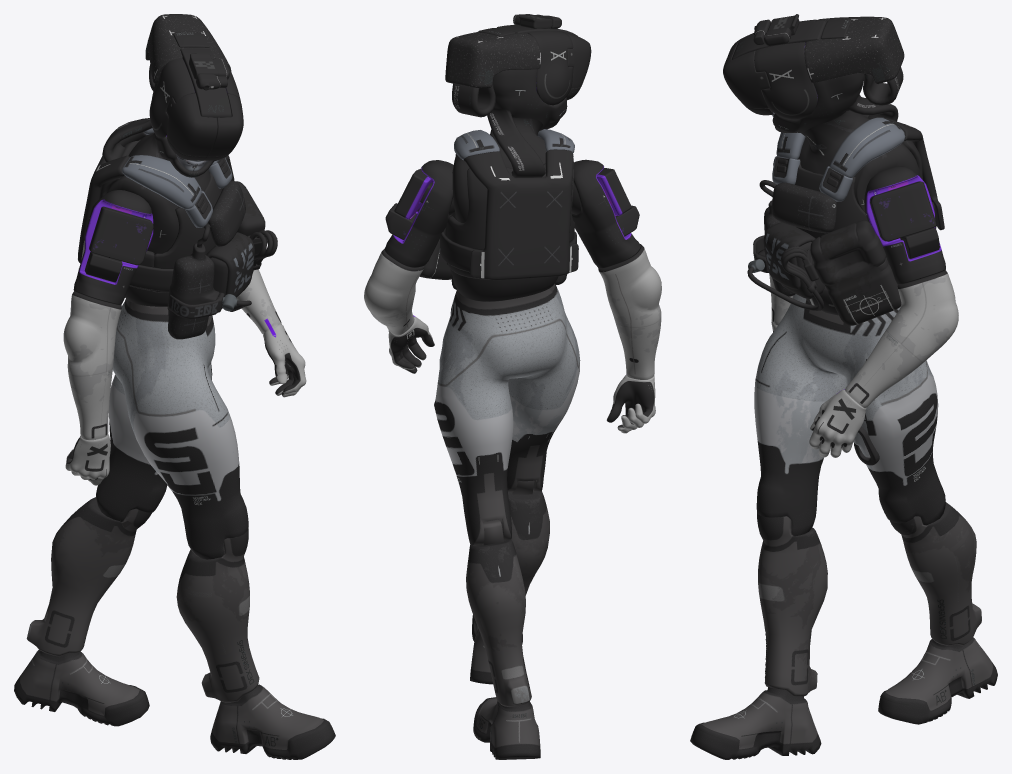
The model's file is shadow_index.glb.
3 views of the same model, side by side, from view 1: azimuth 30°, elevation 25°; view 2: azimuth 150°, elevation 25°; view 3: azimuth 270°, elevation 25° (orthographic). The views are drawn at different scales.
Parts seen in each view (by area): view 1: vigi_leg_thights1, vigi_leg_lower1, vigi_leg_shoes1, vigi_torso1, vigi_forearms1, vigi_helm_main1, vigi_p_right1, vigi_shoulder1, hands_final1, vigi_shoulder_flap1, vigi_helm_visor_top1, vigi_h_visor_tr_low1 (+6 smaller); view 2: vigi_leg_thights1, vigi_torso1, vigi_leg_lower1, vigi_shoulder1, vigi_forearms1, vigi_helm_main1, vigi_necksock1, vigi_leg_shoes1, hands_final1, vigi_shoulder_flap1, vigi_h_visor_tr_low1, vigi_helm_visor_top1 (+1 smaller); view 3: vigi_leg_thights1, vigi_leg_lower1, vigi_leg_shoes1, vigi_torso1, vigi_helm_main1, vigi_forearms1, vigi_p_shock1, vigi_shoulder1, vigi_necksock1, vigi_shoulder_flap1, hands_final1, vigi_p_top1 (+5 smaller).
Part boxes in pixels (bbox=[...]): vigi_leg_thights1: bbox=[96, 299, 248, 559]; vigi_leg_lower1: bbox=[26, 497, 259, 702]; vigi_leg_shoes1: bbox=[14, 650, 335, 759]; vigi_torso1: bbox=[78, 128, 232, 306]; vigi_forearms1: bbox=[63, 269, 281, 440]; vigi_helm_main1: bbox=[145, 14, 240, 138]; vigi_p_right1: bbox=[167, 243, 237, 339]; vigi_shoulder1: bbox=[73, 190, 153, 305]; hands_final1: bbox=[65, 324, 306, 485]; vigi_shoulder_flap1: bbox=[89, 155, 234, 265]; vigi_helm_visor_top1: bbox=[180, 48, 231, 117]; vigi_h_visor_tr_low1: bbox=[166, 93, 217, 156]; vigi_leg_thights1: bbox=[434, 283, 580, 546]; vigi_torso1: bbox=[440, 117, 578, 301]; vigi_leg_lower1: bbox=[466, 480, 549, 706]; vigi_shoulder1: bbox=[384, 159, 641, 268]; vigi_forearms1: bbox=[364, 244, 661, 379]; vigi_helm_main1: bbox=[445, 28, 573, 117]; vigi_necksock1: bbox=[487, 69, 567, 177]; vigi_leg_shoes1: bbox=[470, 615, 540, 759]; hands_final1: bbox=[388, 315, 655, 433]; vigi_shoulder_flap1: bbox=[394, 168, 631, 219]; vigi_h_visor_tr_low1: bbox=[564, 32, 591, 88]; vigi_helm_visor_top1: bbox=[497, 14, 577, 36]; vigi_leg_thights1: bbox=[754, 294, 945, 536]; vigi_leg_lower1: bbox=[757, 502, 981, 696]; vigi_leg_shoes1: bbox=[690, 637, 997, 759]; vigi_torso1: bbox=[772, 110, 944, 238]; vigi_helm_main1: bbox=[754, 16, 904, 119]; vigi_forearms1: bbox=[769, 270, 958, 408]; vigi_p_shock1: bbox=[802, 220, 901, 325]; vigi_shoulder1: bbox=[773, 156, 945, 284]; vigi_necksock1: bbox=[772, 73, 898, 133]; vigi_shoulder_flap1: bbox=[869, 181, 936, 241]; hands_final1: bbox=[771, 319, 866, 457]; vigi_p_top1: bbox=[772, 182, 836, 233].
Bounding box in the file's own units: 0.7074 × 1.86 × 0.724.
9 materials, 8 textured.
